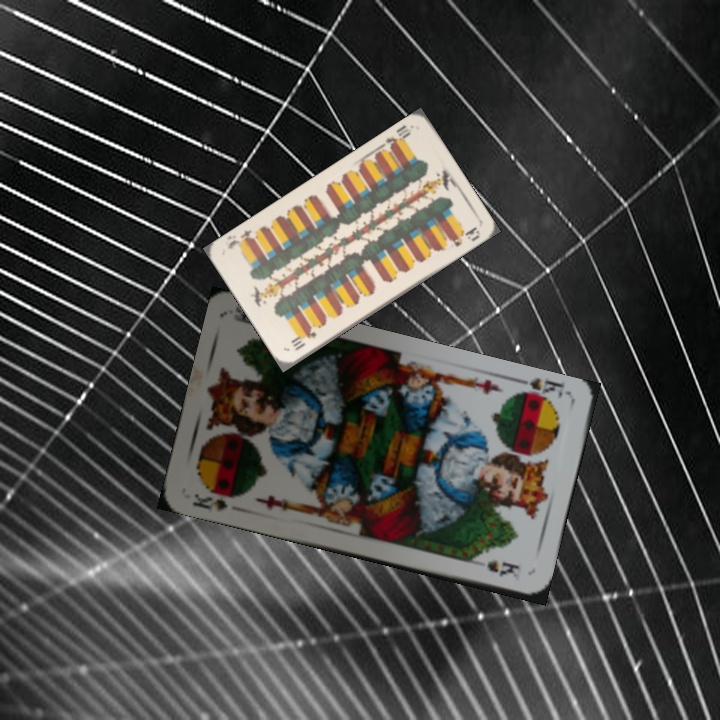E10: (378, 121, 415, 153), (288, 326, 319, 353)
SK: (510, 374, 567, 407), (188, 489, 231, 514)
